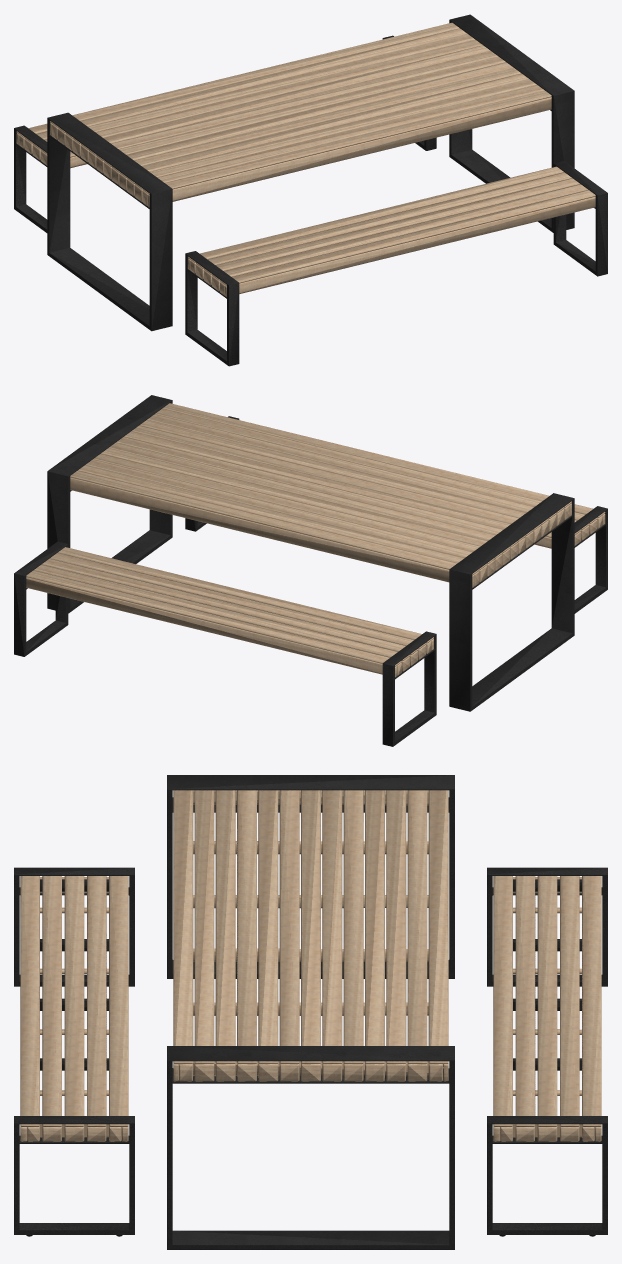
File: rose-dining-set.glb
3 renders of one model, top to bottom at view 1: azimuth 30°, elevation 25°; view 2: azimuth 150°, elevation 25°; view 3: azimuth 270°, elevation 25°, orthographic. The views are drawn at different scales.
Visible parts, largest first — view 1: Table top, Bench top.001, Table leg frame, Bench leg frame.001, Bench leg frame, Bench top; view 2: Table top, Bench top, Table leg frame, Bench leg frame, Bench leg frame.001, Bench top.001; view 3: Table top, Bench top, Bench top.001, Table leg frame, Bench leg frame, Bench leg frame.001, Table support bar.
Part boxes in pixels (<box>): Table top: <box>50,22,551,207</box>; Bench top.001: <box>188,166,595,296</box>; Table leg frame: <box>47,14,574,331</box>; Bench leg frame.001: <box>185,161,607,366</box>; Bench leg frame: <box>14,35,436,232</box>; Bench top: <box>16,123,86,168</box>; Table top: <box>70,403,571,587</box>; Bench top: <box>26,547,433,677</box>; Table leg frame: <box>47,395,574,711</box>; Bench leg frame: <box>14,541,436,746</box>; Bench leg frame.001: <box>185,416,607,613</box>; Bench top.001: <box>534,504,605,548</box>; Table top: <box>173,790,448,1081</box>; Bench top: <box>493,876,601,1141</box>; Bench top.001: <box>20,876,128,1141</box>; Table leg frame: <box>167,775,454,1249</box>; Bench leg frame: <box>487,867,607,1234</box>; Bench leg frame.001: <box>14,867,134,1234</box>; Table support bar: <box>193,790,428,1075</box>.
Size of the model in its own units: 2.76 by 0.8741 by 2.43.
5 materials, 4 textured.
